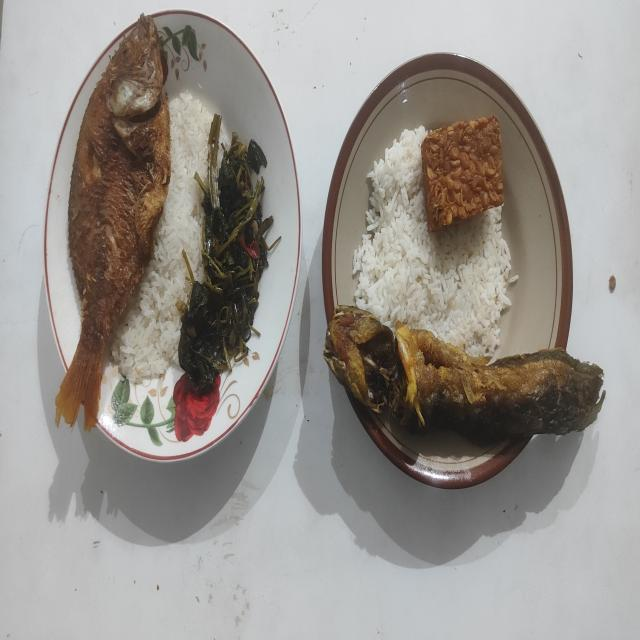ikan_mujair: (56, 14, 170, 430)
nasi_putih: (352, 128, 518, 358), (112, 90, 214, 382)
tempe_goreng: (422, 116, 504, 230)
tumis_kangkung: (178, 114, 278, 393)
